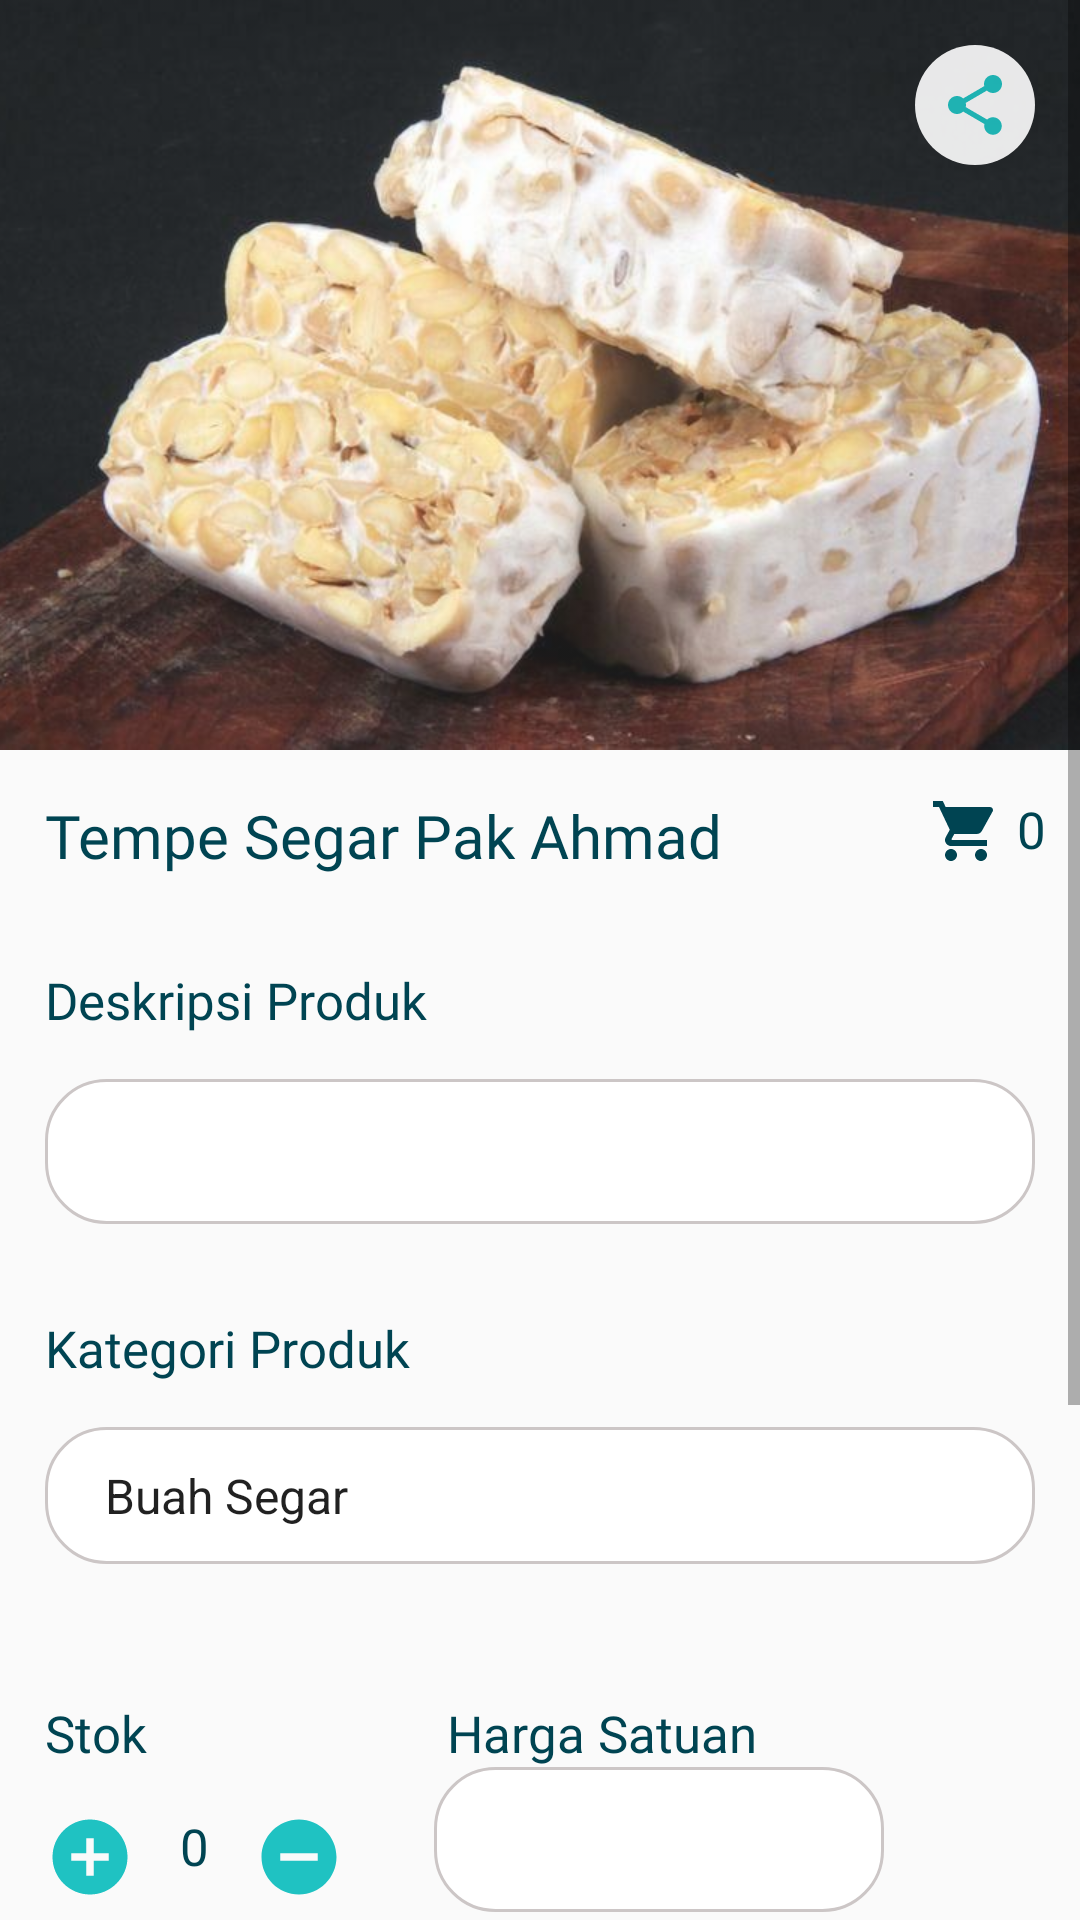

Where icons sit on this 1080 × 1920 app screen, as (x1, y1, x2, y2):
add: (52, 1819, 128, 1895)
remove: (261, 1819, 337, 1895)
share: (915, 45, 1035, 165)
